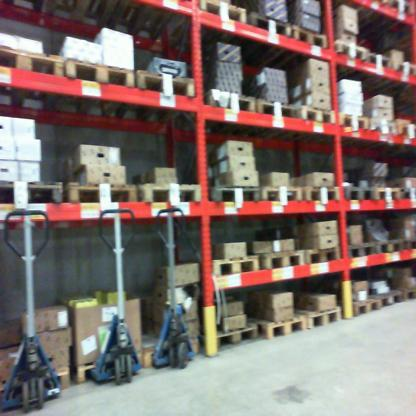pallets: (205, 2, 416, 76), (208, 86, 416, 140), (0, 46, 200, 101), (0, 171, 206, 224), (209, 239, 415, 279), (212, 183, 415, 206), (294, 306, 340, 328)
